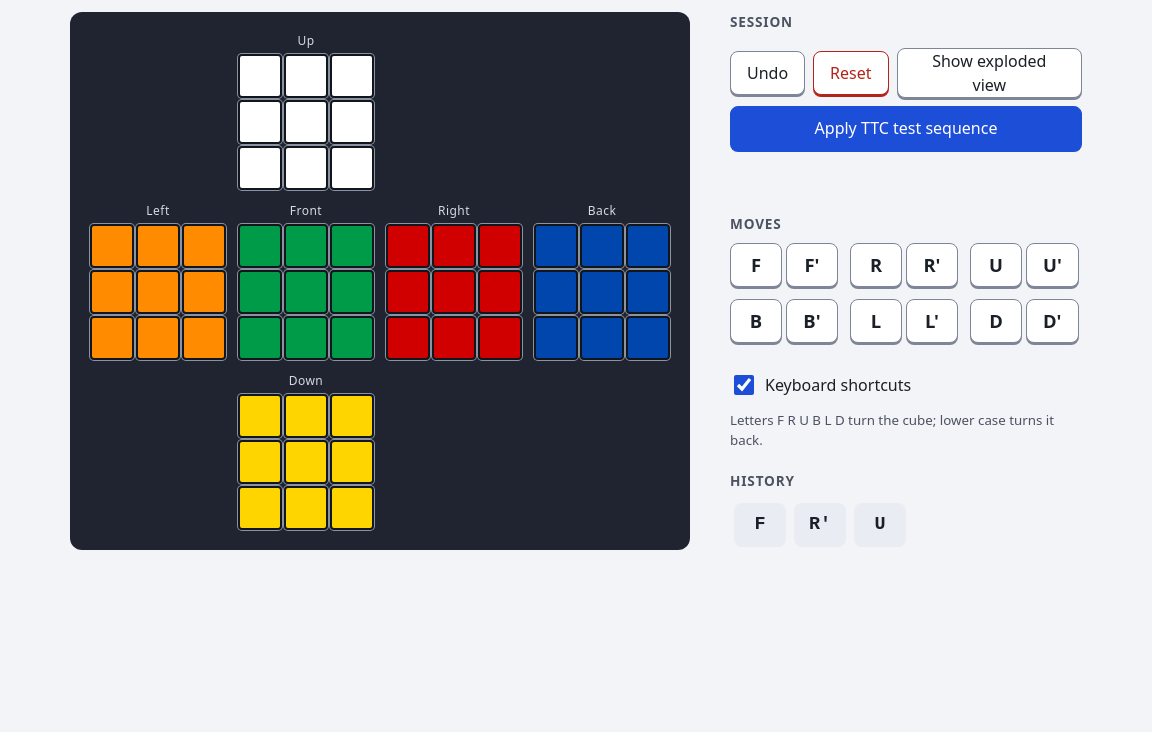
Test: CubePage › history, undo and reset › Reset failures › shows the network message and keeps the last good state
The image size is (1152, 732).
Click the button "Reset". click: {"x": 851, "y": 73}
box: x1=813 y1=51 x2=889 y2=95
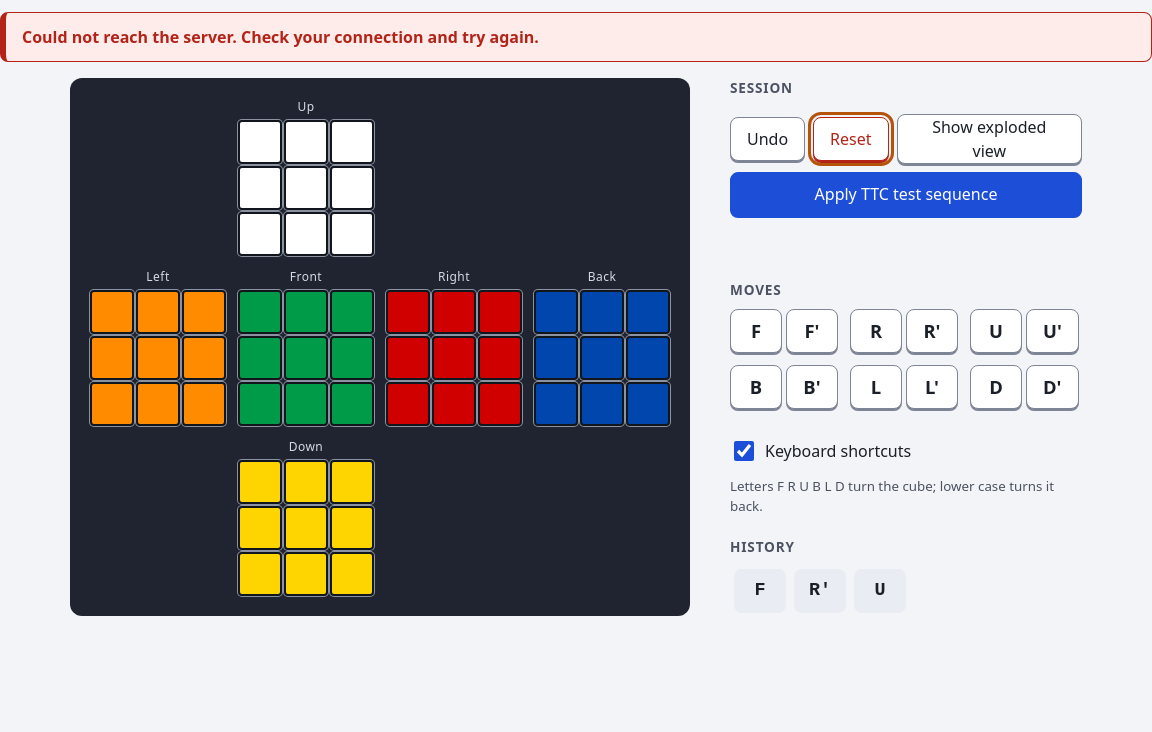
Check: the message "Could not reach the server. Check your connection and try again." is shown, box x1=0 y1=12 x2=1151 y2=62
